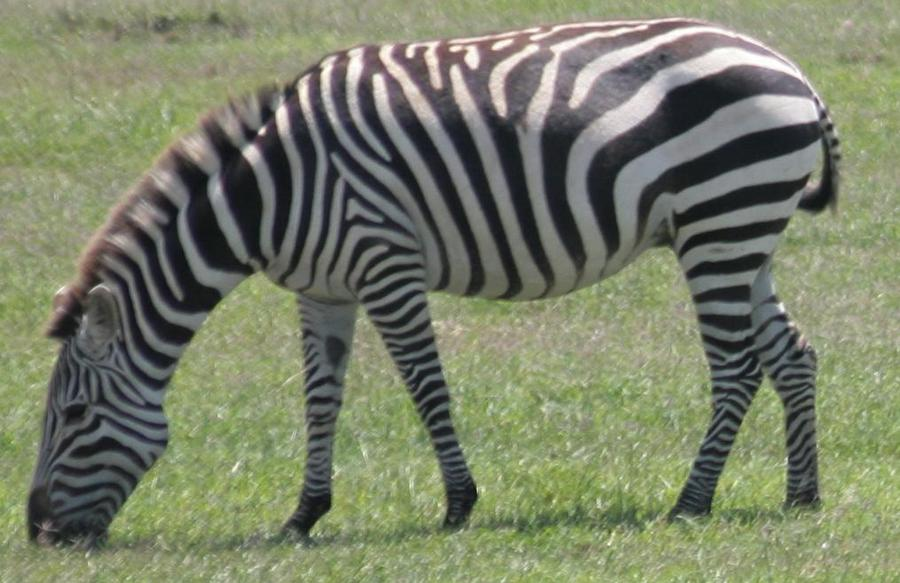zebra_plains: (199, 24, 867, 401)
